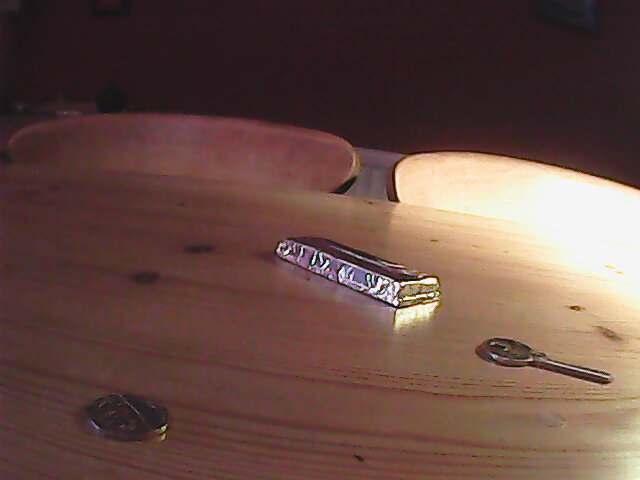Coin: (85, 391, 172, 443)
Foil: (274, 233, 442, 309)
Key: (481, 336, 616, 390)
